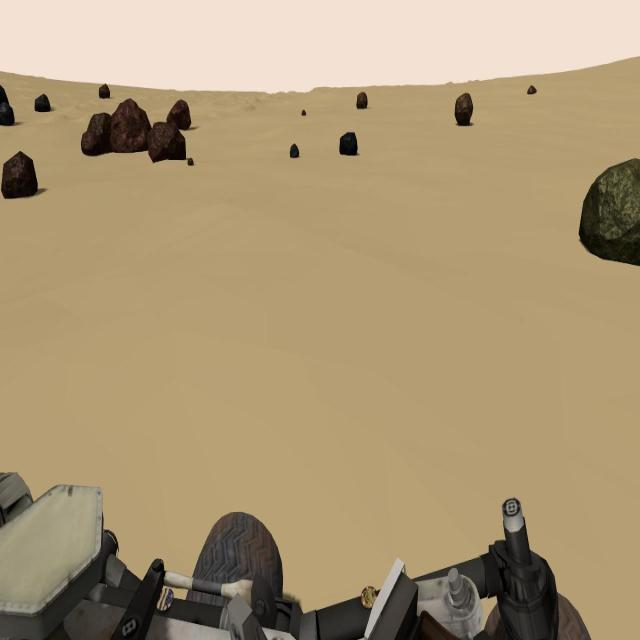rock: (579, 158, 640, 266), (112, 96, 152, 152), (1, 150, 38, 199), (148, 121, 186, 163), (88, 112, 112, 157), (166, 100, 192, 130), (454, 92, 473, 127), (339, 130, 358, 155), (81, 130, 99, 154), (0, 103, 15, 126), (35, 94, 50, 112), (356, 91, 368, 109), (98, 82, 110, 99), (0, 84, 9, 104), (289, 141, 299, 158), (528, 84, 536, 95), (187, 157, 194, 165), (301, 110, 306, 116)
